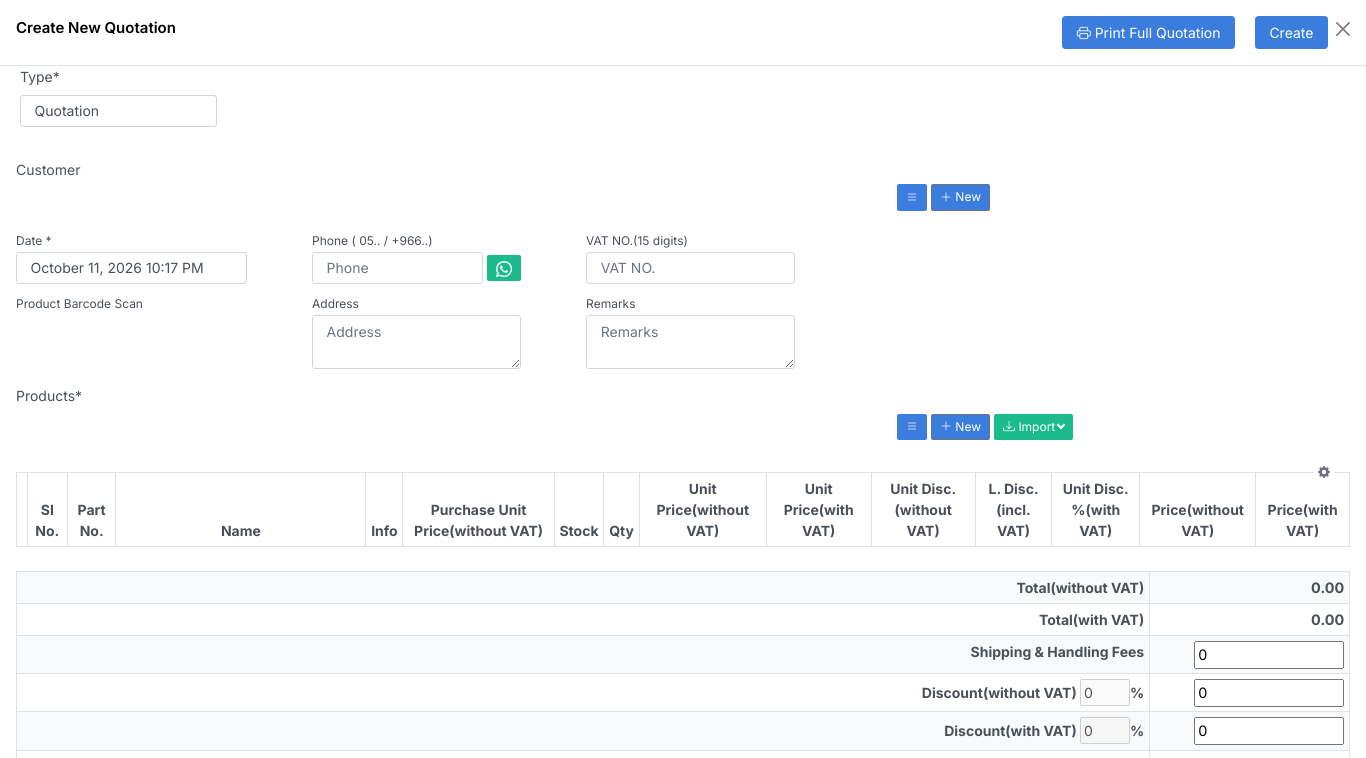
Quotation form: Import > From Quotations (integration) › From Sales searches orders newest first for the store
The width and height of the screenshot is (1366, 758).
Click the button with test id "import-dropdown-btn" at coordinates (1034, 427), box left=994, top=414, right=1073, bottom=440
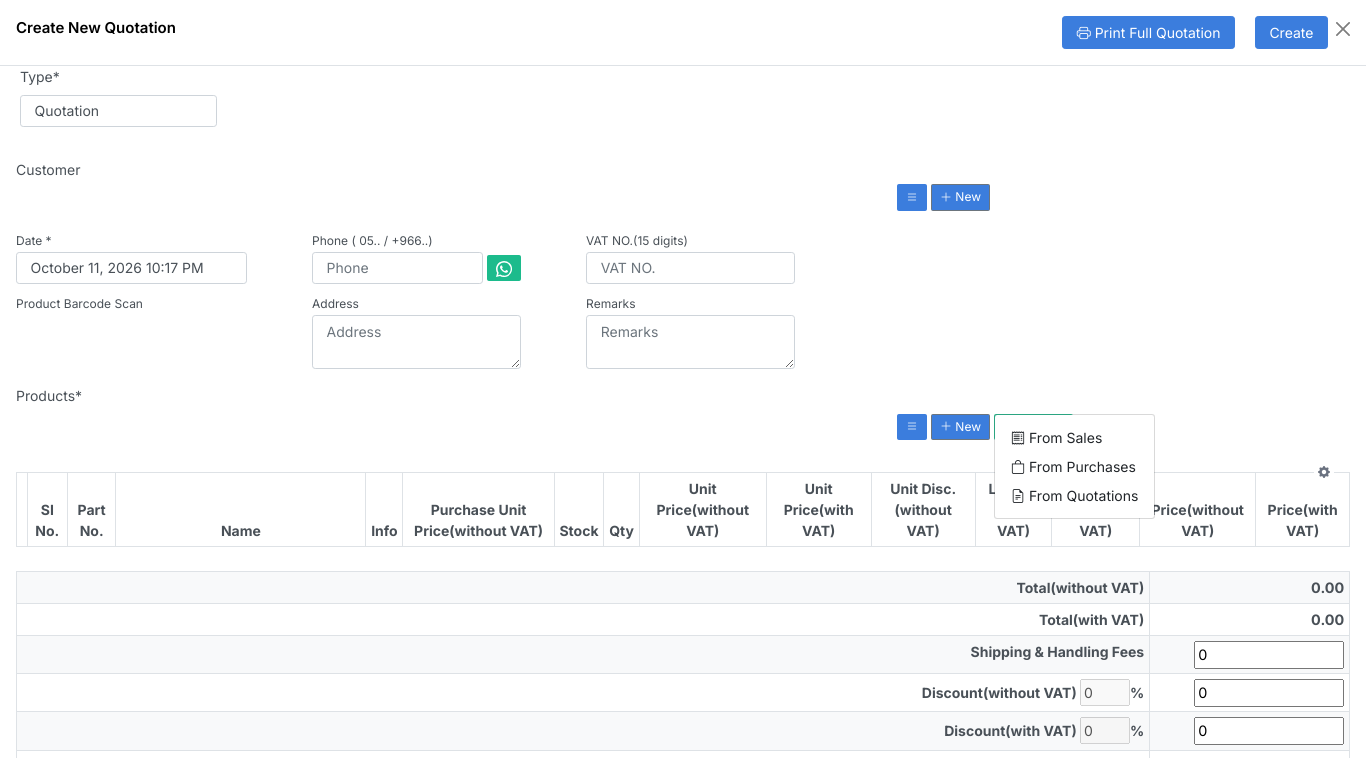
Click the button with test id "import-from-sales-btn" at coordinates (1057, 437), box left=1011, top=429, right=1102, bottom=446
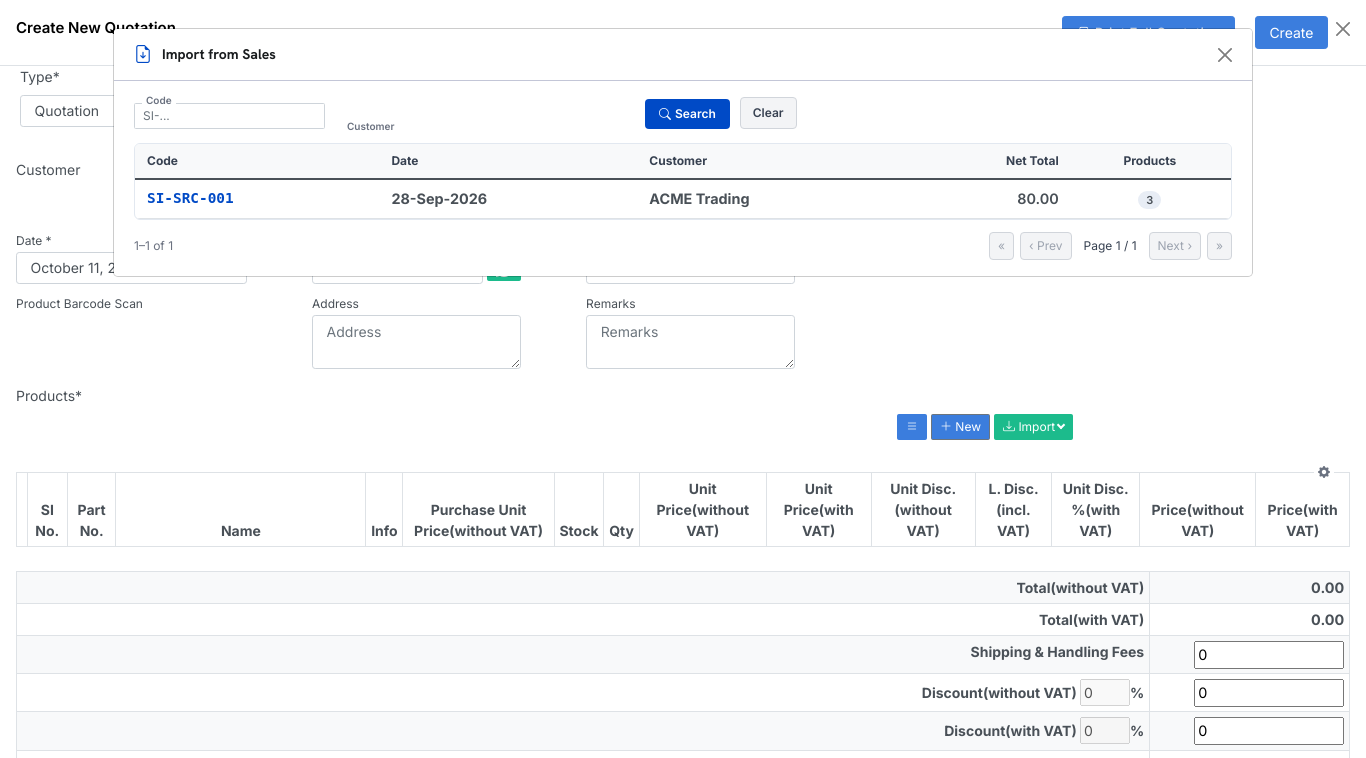
Click the text "SI-SRC-001" at coordinates (258, 199), box left=135, top=179, right=381, bottom=218
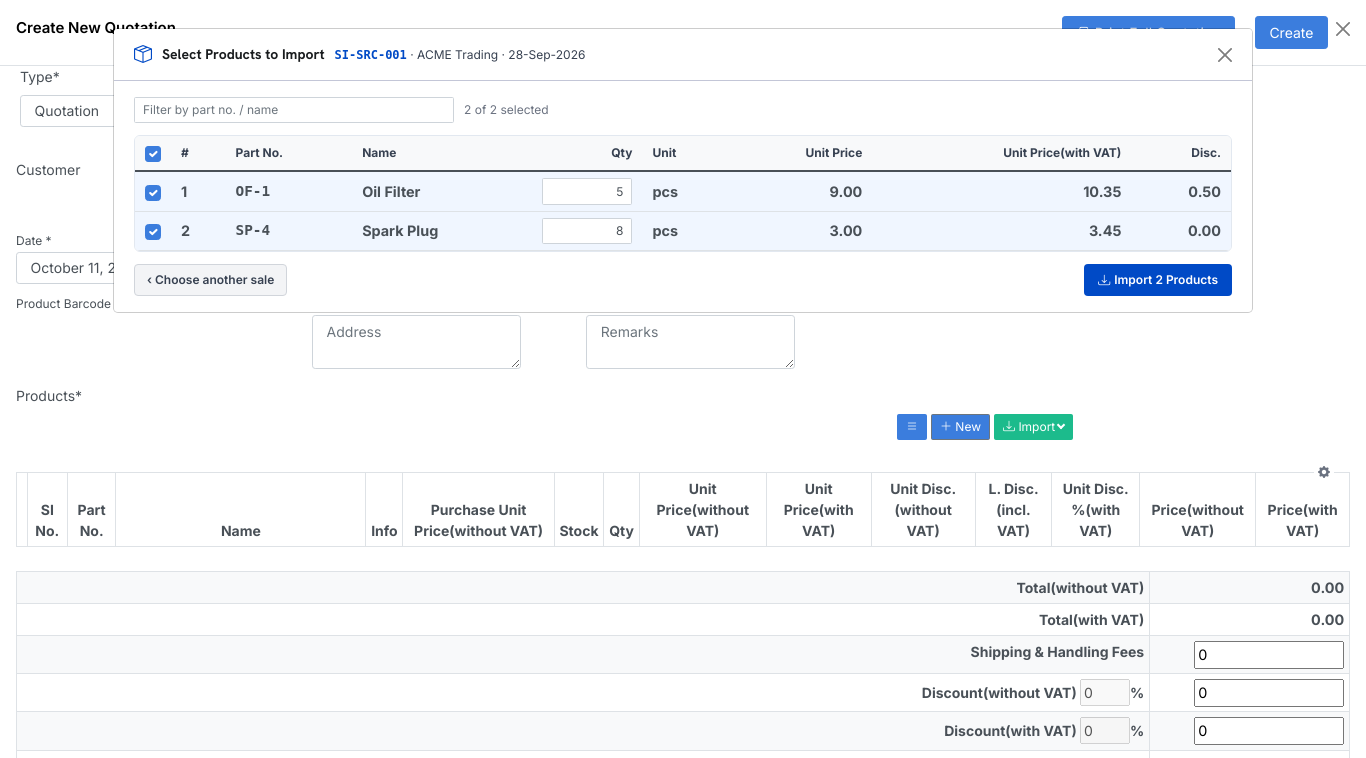
Expected: the heading "Select Products to Import" is shown, left=162, top=46, right=325, bottom=63
